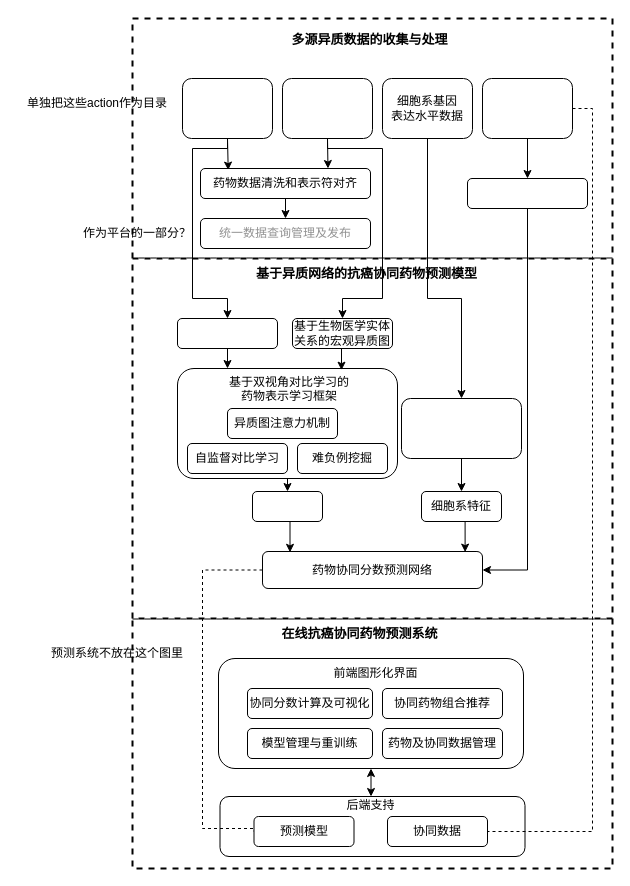
Some shapes in this 630 by 886 pixel diagram are drawn without their labels. Here are the shapes that lost their labels. From the top down, the box of each, then its label:
(182, 78, 272, 138): 分子及原子的 性质与结构数据
(282, 78, 372, 138): 药物相关实体 互作用关系数据
(482, 78, 572, 138): 药物组合 协同 效应数据
(466, 178, 588, 208): 多策略唯一性分折
(176, 318, 278, 348): 基于分子结构与性质的微观异质图
(400, 398, 522, 458): 嵌入先验知识的 细胞系组学特征 构建方法
(252, 490, 322, 522): 药物表示
